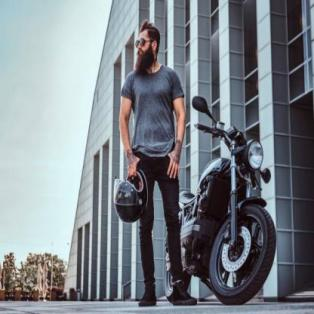Motocicleta: (176, 100, 280, 313)
